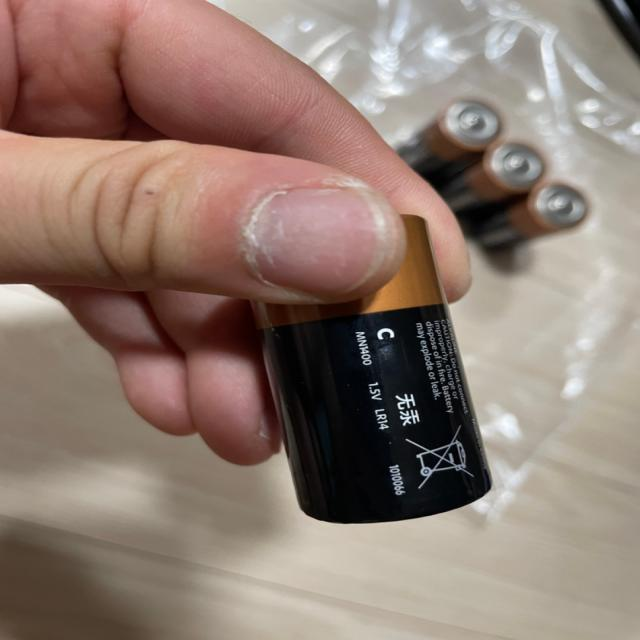Hazard: (252, 214, 496, 526), (434, 136, 554, 238), (394, 98, 508, 188), (478, 179, 591, 257)
